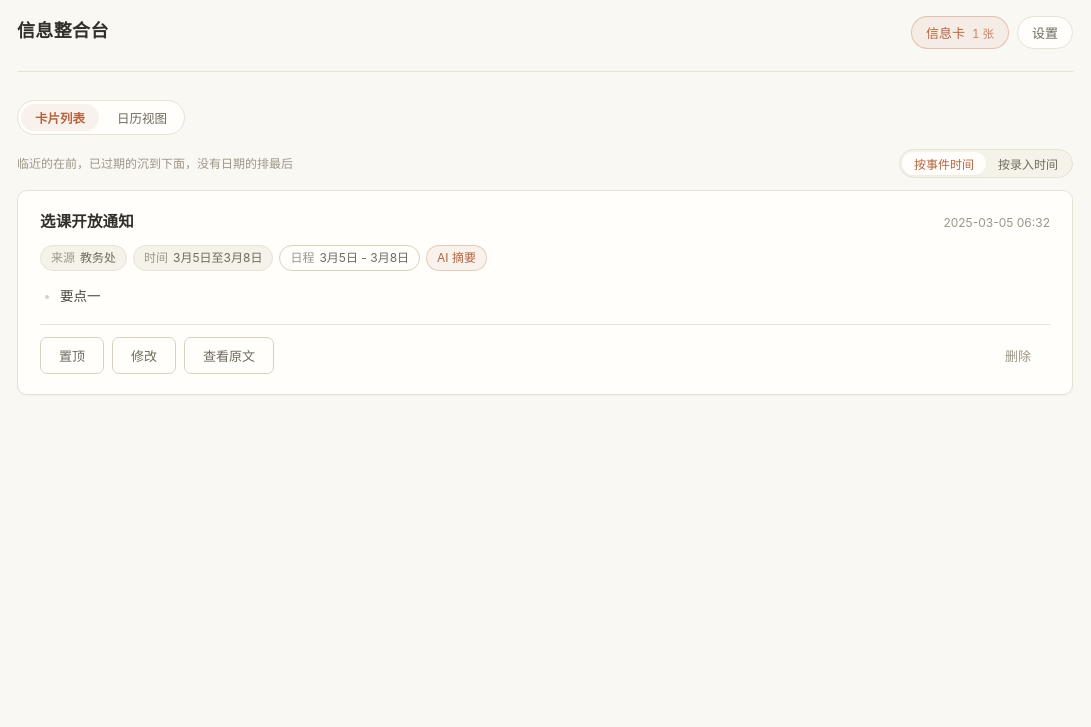
视图切换 › 切到日历后按月分周渲染，再切回恢复列表
Click the tab "日历视图" at (142, 118), box [103, 104, 181, 131]
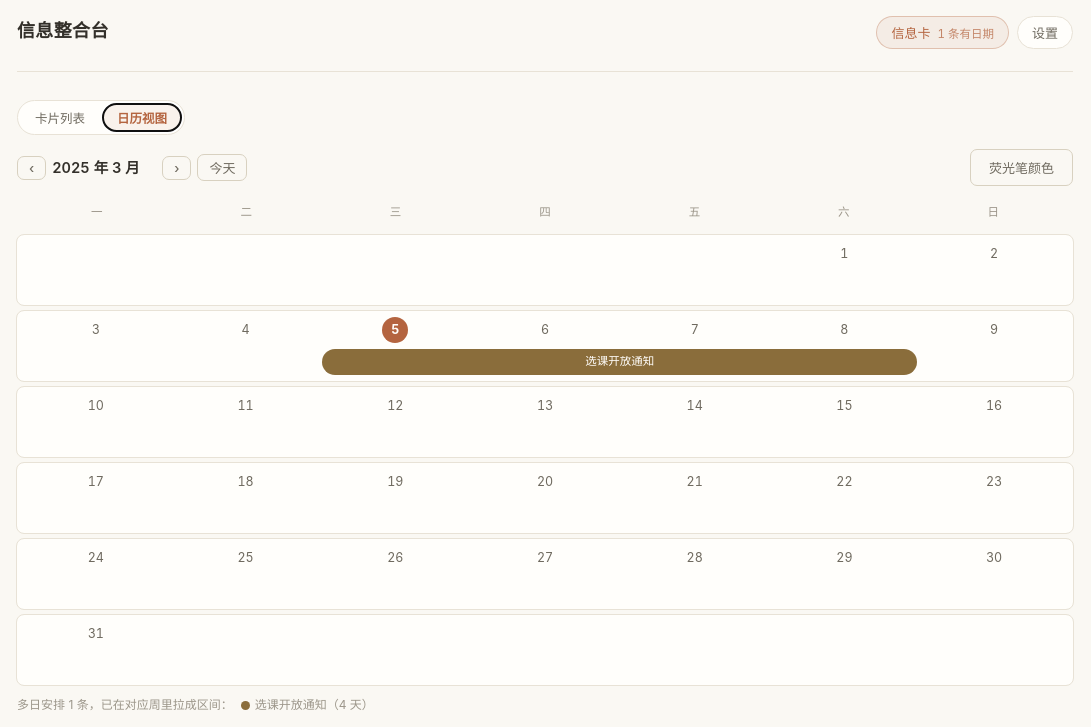
Expected: the element with test id "calendar-week" showing "1 2" is shown, [17, 235, 1073, 305]
Expected: the text "2025 年 3 月" is shown, [52, 158, 140, 176]
Expected: the element with test id "info-card" is gone
Click the tab "卡片列表" at (60, 118), box [21, 104, 99, 131]
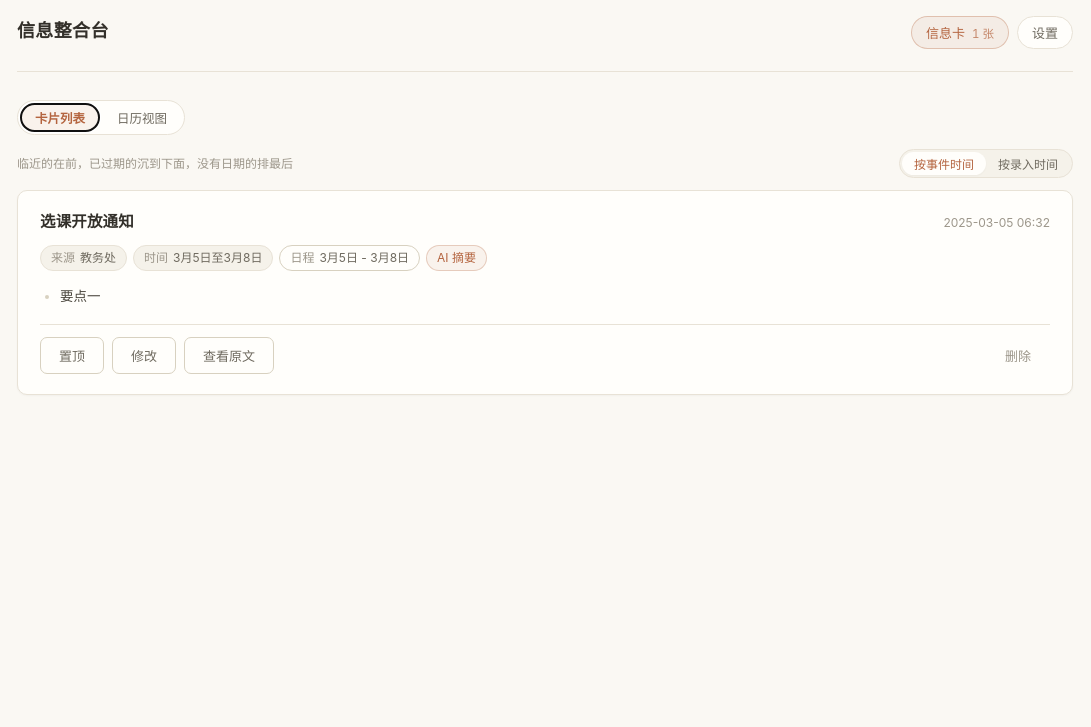
Expected: the element with test id "info-card" is shown, [17, 190, 1073, 395]
